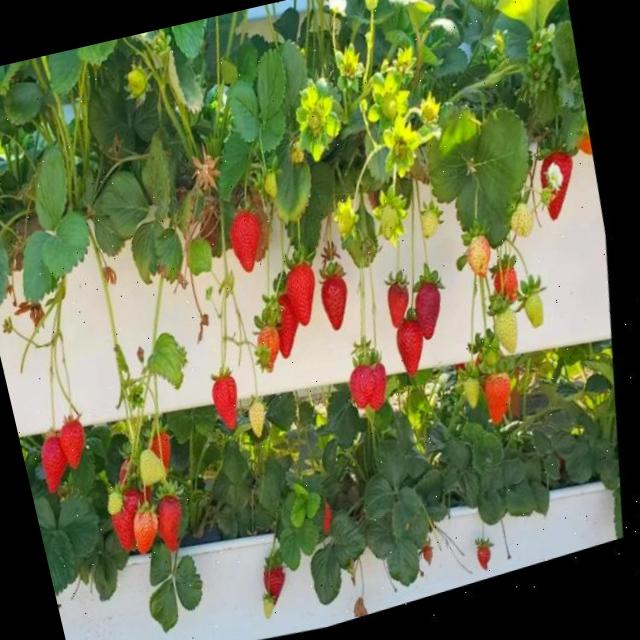ripe: (528, 148, 596, 240), (219, 204, 278, 284), (406, 270, 463, 352), (278, 258, 334, 338), (264, 290, 320, 370), (388, 312, 446, 389), (106, 483, 162, 562), (202, 366, 258, 444), (150, 484, 204, 564), (314, 262, 368, 342), (33, 430, 83, 501), (342, 354, 392, 420), (380, 270, 426, 340), (54, 409, 102, 476), (491, 263, 536, 321), (260, 552, 304, 610), (366, 361, 408, 418), (150, 426, 186, 476), (2, 366, 22, 425), (480, 542, 508, 580), (426, 541, 452, 579)
